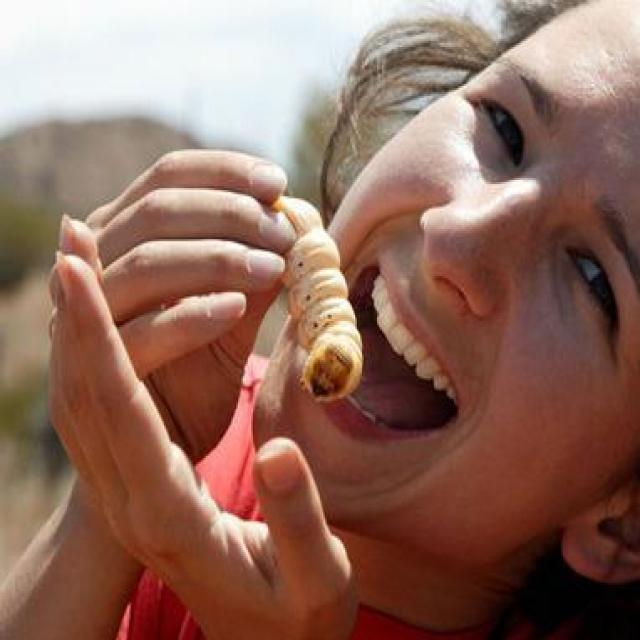Grub-Adult-: (266, 173, 388, 416)
